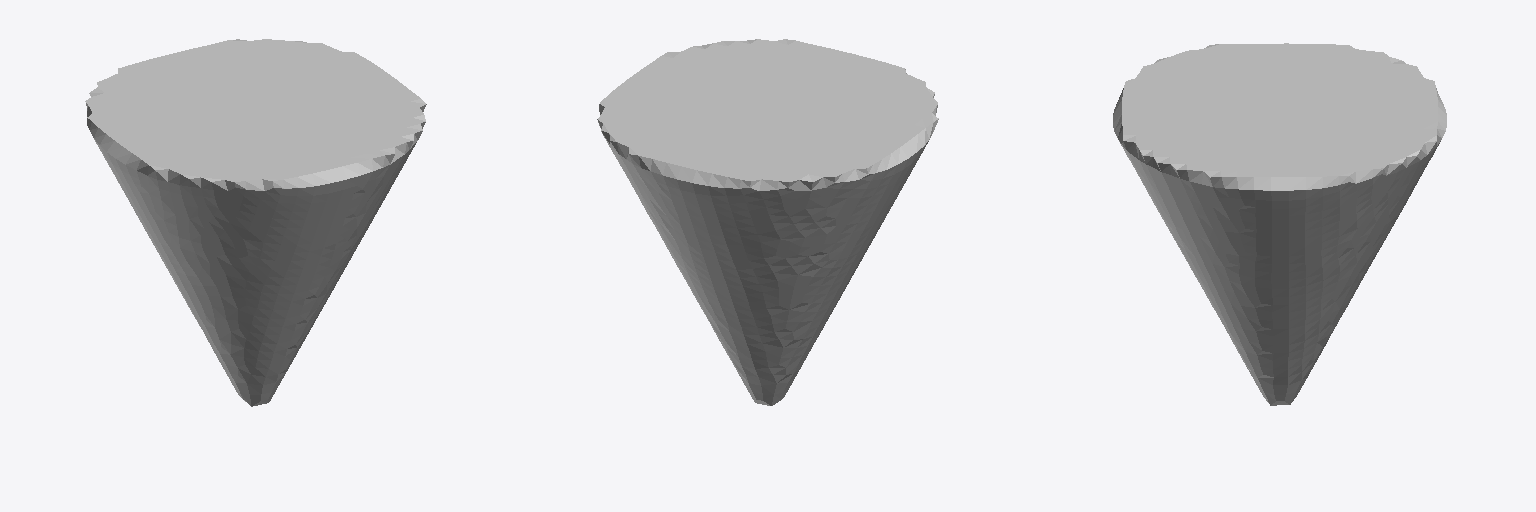
Rendered from island.obj.
The picture shows the model from 3 angles: view 1: azimuth 30°, elevation 25°; view 2: azimuth 150°, elevation 25°; view 3: azimuth 270°, elevation 25°; orthographic projection.
Visible parts, largest first — view 1: Cone_Cone.001; view 2: Cone_Cone.001; view 3: Cone_Cone.001.
Boxes of the visible parts, x1=… form: Cone_Cone.001: x1=85, y1=39, x2=426, y2=406; Cone_Cone.001: x1=597, y1=39, x2=938, y2=405; Cone_Cone.001: x1=1113, y1=43, x2=1446, y2=405.
Bounding box in the file's own units: 1.92 × 1.84 × 1.92.